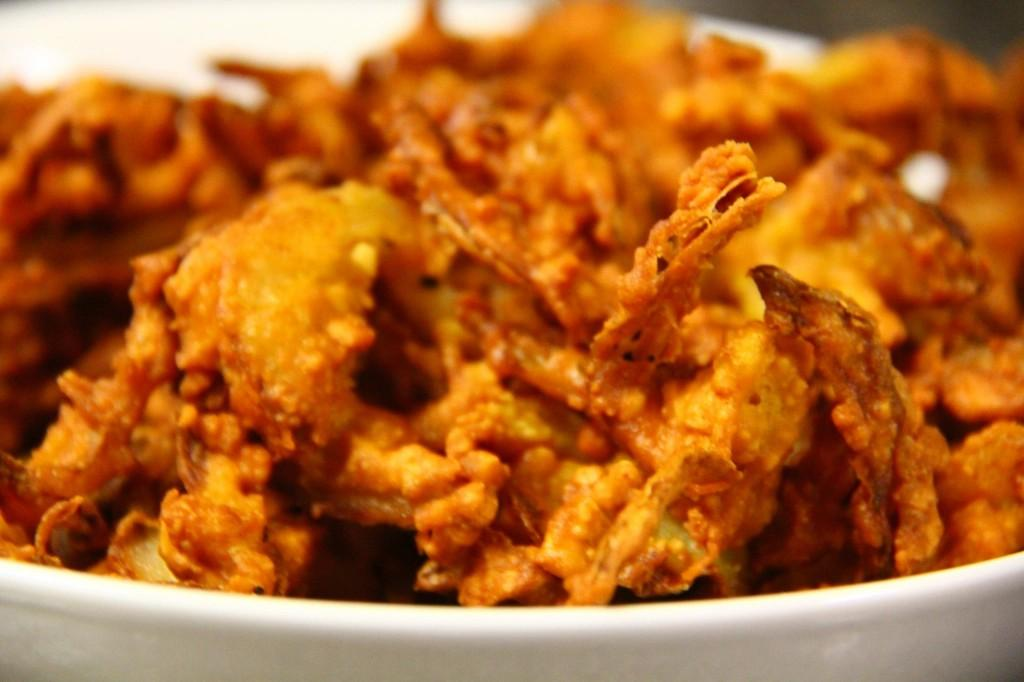OnionPakoda: (0, 0, 1024, 608)
